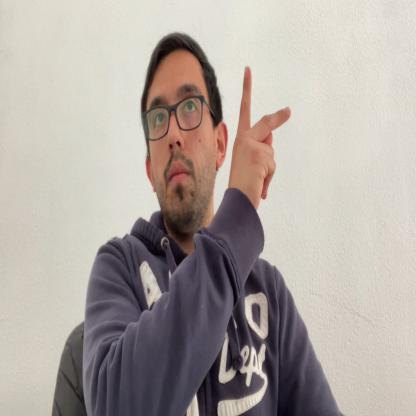P: (230, 65, 291, 209)
